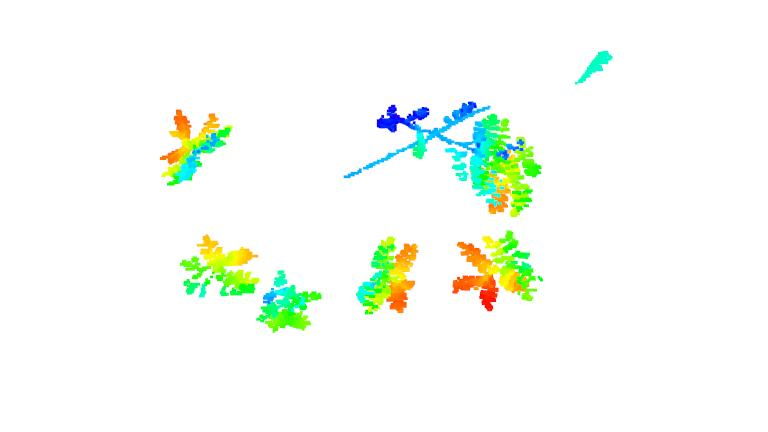chickpea: (377, 102, 482, 212), (453, 227, 539, 314), (476, 110, 544, 216), (155, 105, 231, 188), (180, 234, 260, 300), (355, 233, 419, 314), (254, 270, 323, 332)
